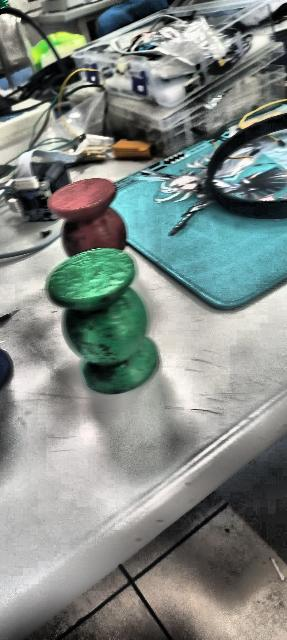green: (48, 246, 164, 401)
red: (49, 180, 123, 256)
